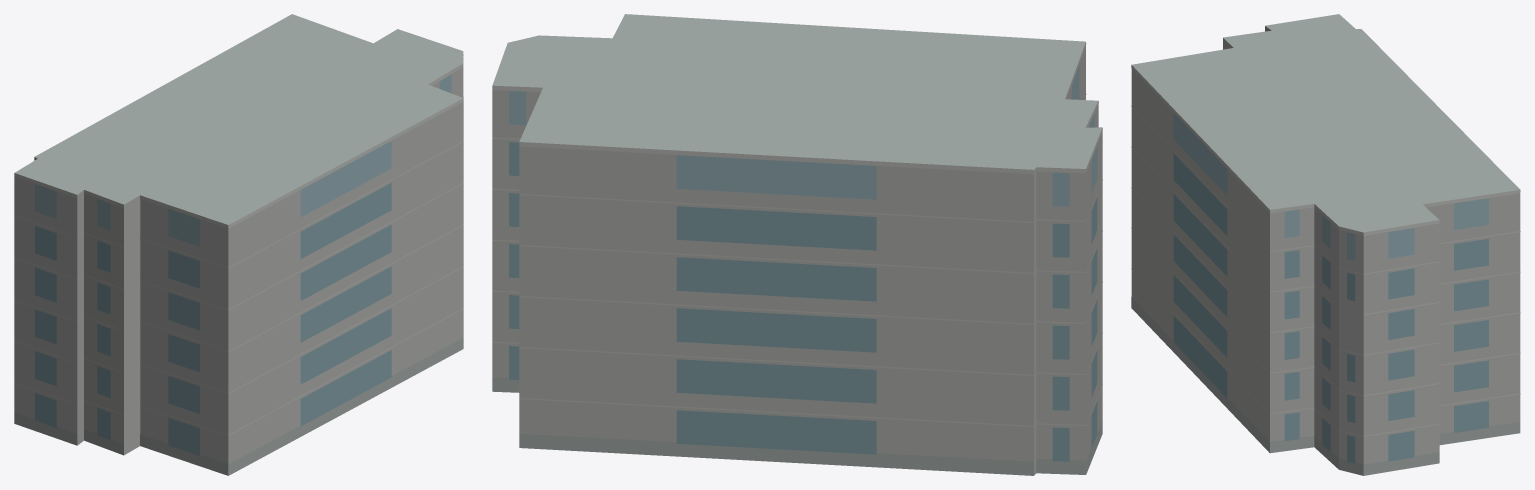
File: survey-upis-32731294.glb
The picture shows the model from 3 angles, left to right: view 1: azimuth 30°, elevation 25°; view 2: azimuth 150°, elevation 25°; view 3: azimuth 270°, elevation 25°; orthographic projection. The views are drawn at different scales.
Visible parts, largest first — view 1: survey-upis-32731294.tmp; view 2: survey-upis-32731294.tmp; view 3: survey-upis-32731294.tmp.
Part boxes in pixels (x1,y1,x2,y2): survey-upis-32731294.tmp: (14, 14, 463, 475); survey-upis-32731294.tmp: (492, 14, 1102, 475); survey-upis-32731294.tmp: (1131, 14, 1520, 475).
Bounding box in the file's own units: 32.09 × 16.65 × 24.14.
